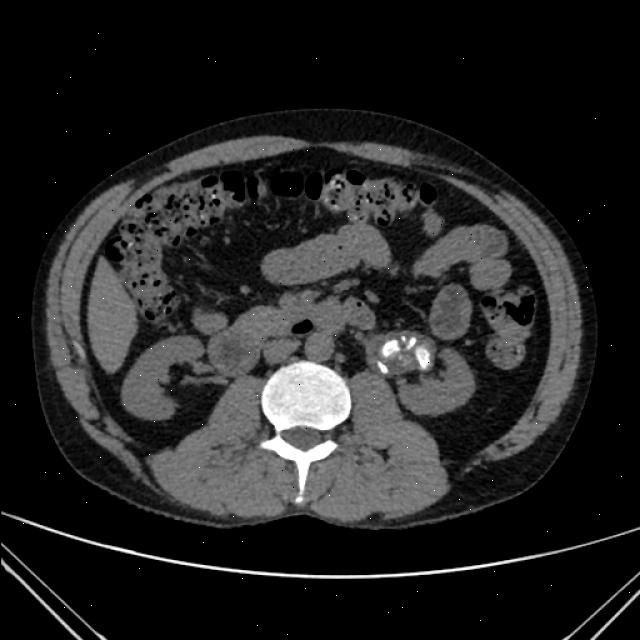kidneystone: (385, 340, 400, 356)
